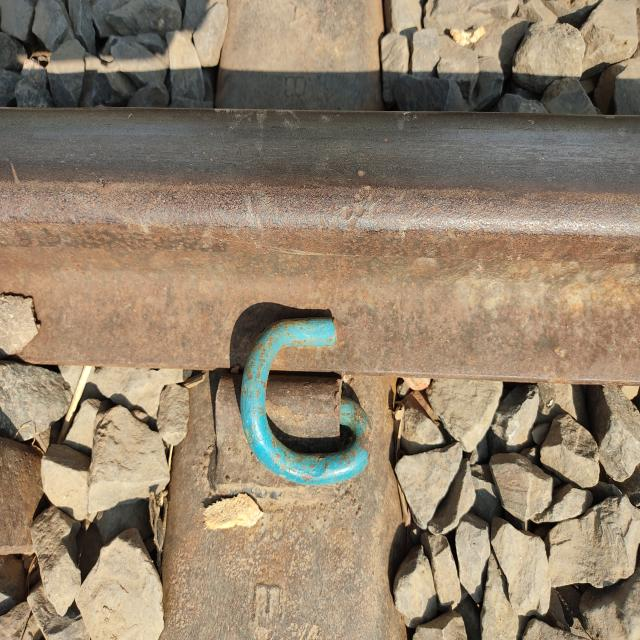non-defective: (180, 76, 479, 508)
